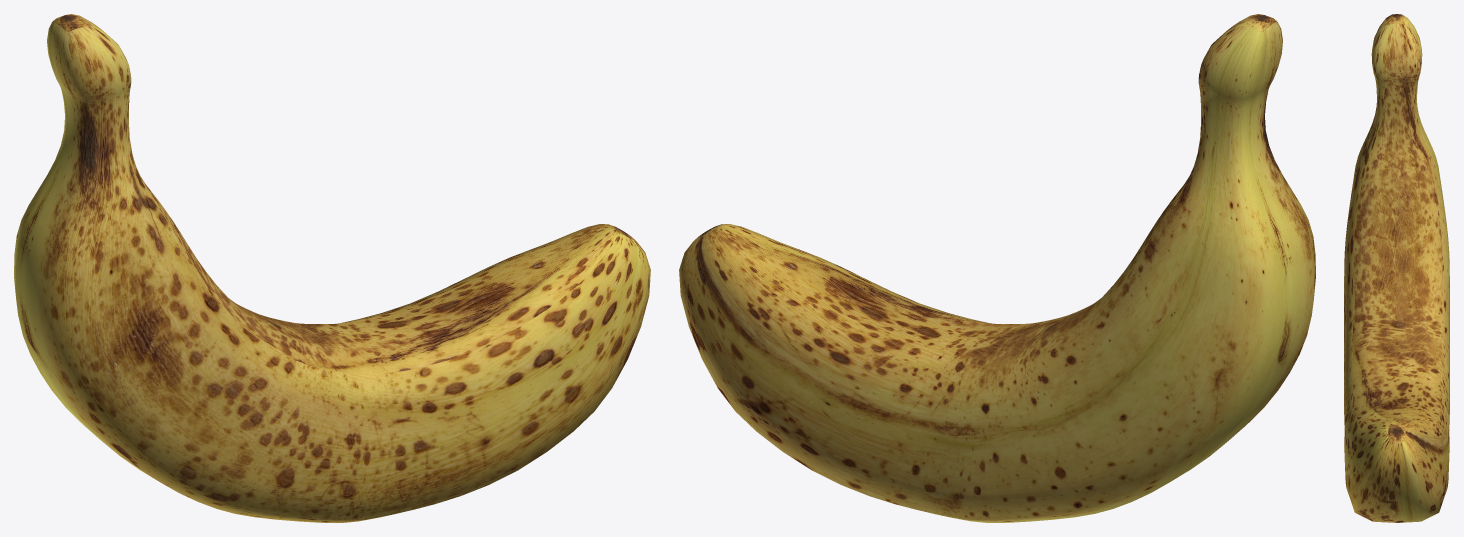
Rendered from banana.glb.
The picture shows the model from 3 angles, left to right: view 1: azimuth 30°, elevation 25°; view 2: azimuth 150°, elevation 25°; view 3: azimuth 270°, elevation 25°; orthographic projection. The views are drawn at different scales.
Visible parts, largest first — view 1: Banana; view 2: Banana; view 3: Banana.
Part boxes in pixels (x1,y1,x2,y2): Banana: (14,14,650,522); Banana: (679,14,1315,522); Banana: (1344,14,1449,522).
Bounding box in the file's own units: 7.56 × 6.61 × 1.68.
1 material, 1 textured.
